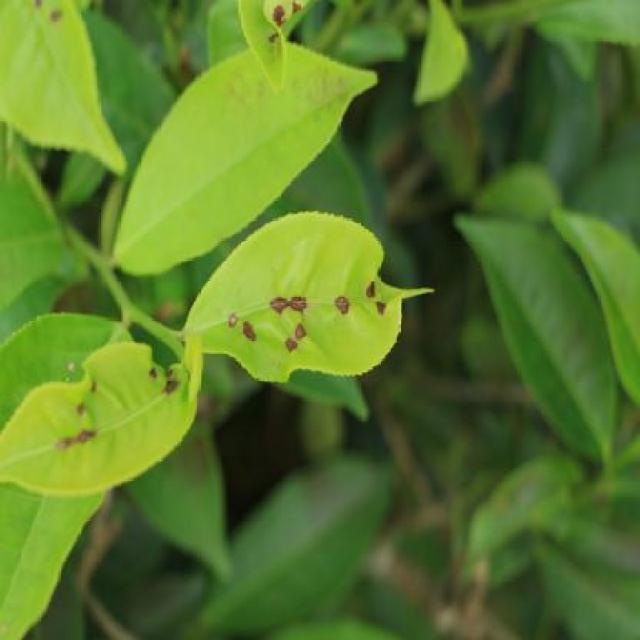Tea Mosquito bug infested leaf: (186, 220, 422, 391), (19, 340, 186, 495)
